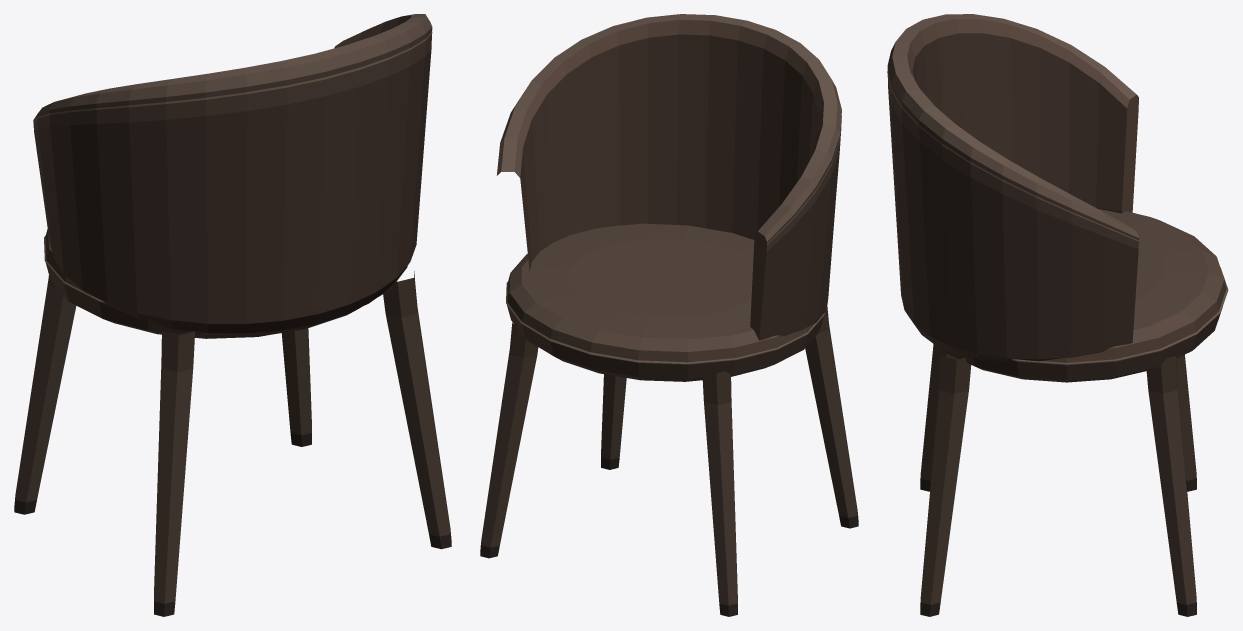
Rendered from chair.glb.
3 views of the same model, side by side, from view 1: azimuth 30°, elevation 25°; view 2: azimuth 150°, elevation 25°; view 3: azimuth 270°, elevation 25° (orthographic). The views are drawn at different scales.
Visible parts, largest first — view 1: DiningChair; view 2: DiningChair; view 3: DiningChair.
Part boxes in pixels (<box>): DiningChair: <box>14,14,451,616</box>; DiningChair: <box>480,14,858,616</box>; DiningChair: <box>887,14,1228,616</box>.
Bounding box in the file's own units: 0.5544 × 0.801 × 0.502.
